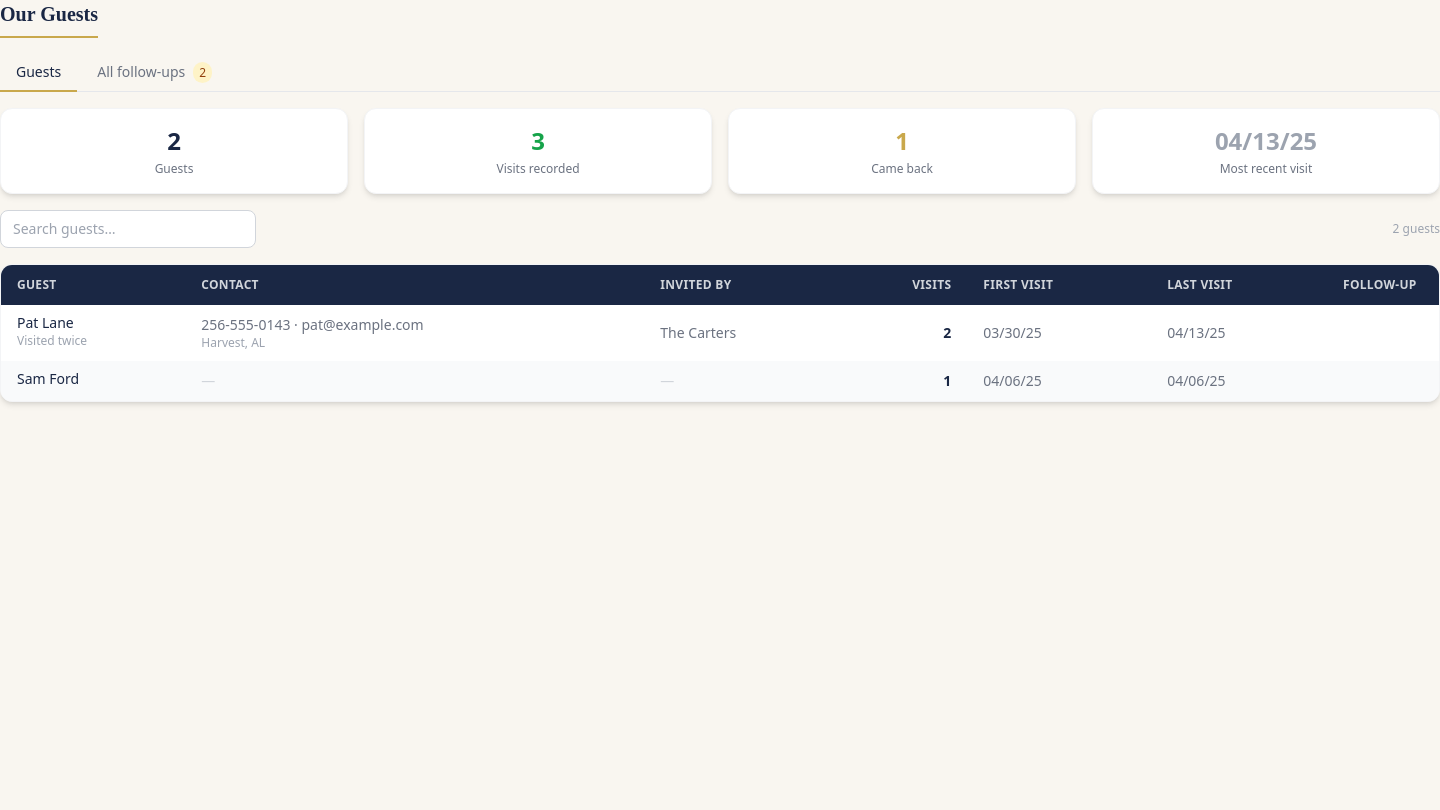
VisitorTracker › the details and visit history are spelled out when the guest is clicked
The image size is (1440, 810).
Click the button "Pat Lane" at (45, 323), box [17,313,74,333]
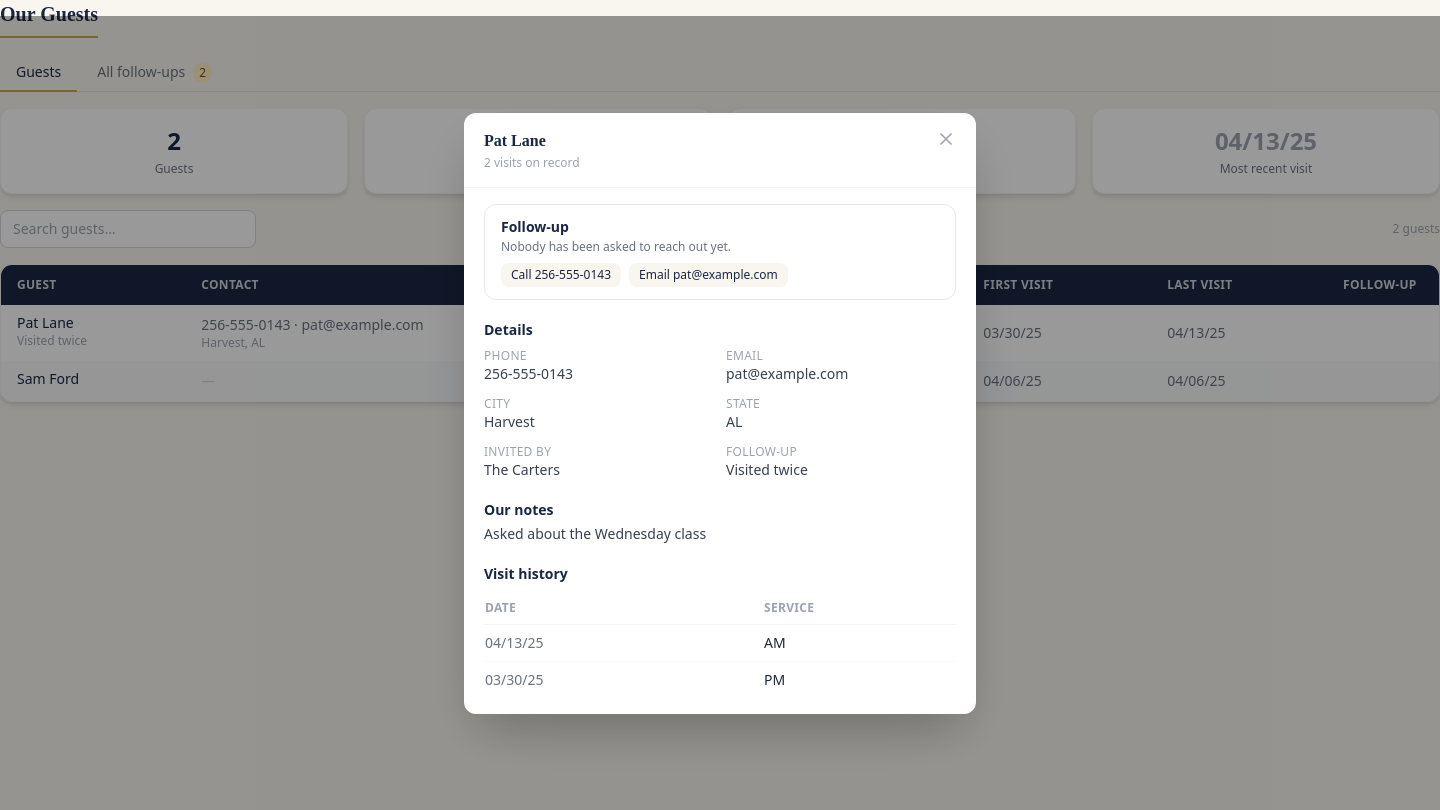
Expected: the text "2 visits on record" is shown, [484,154,580,170]
Expected: the text "pat@example.com" is shown, [726,364,848,382]
Expected: the text "The Carters" is shown, [484,460,560,478]
